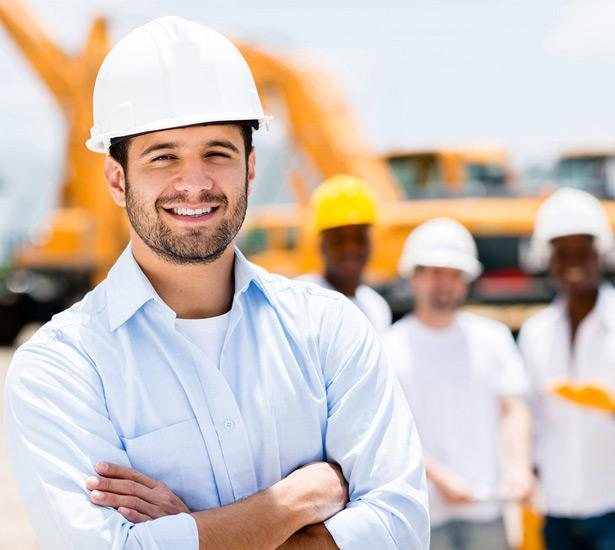helmet: (88, 14, 272, 151), (398, 221, 482, 276), (308, 176, 377, 231), (538, 189, 607, 242)
